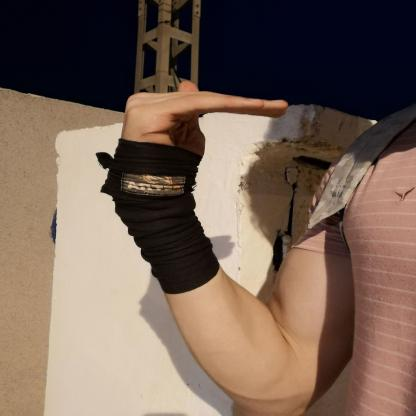KHAA: (92, 69, 309, 209)
